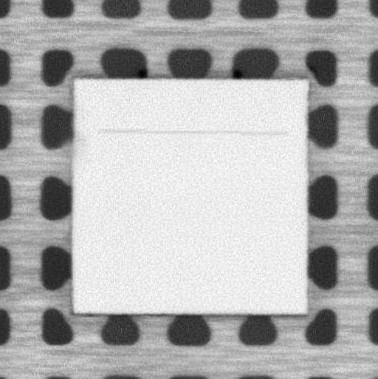DIE_CRACK: (98, 121, 290, 140)
